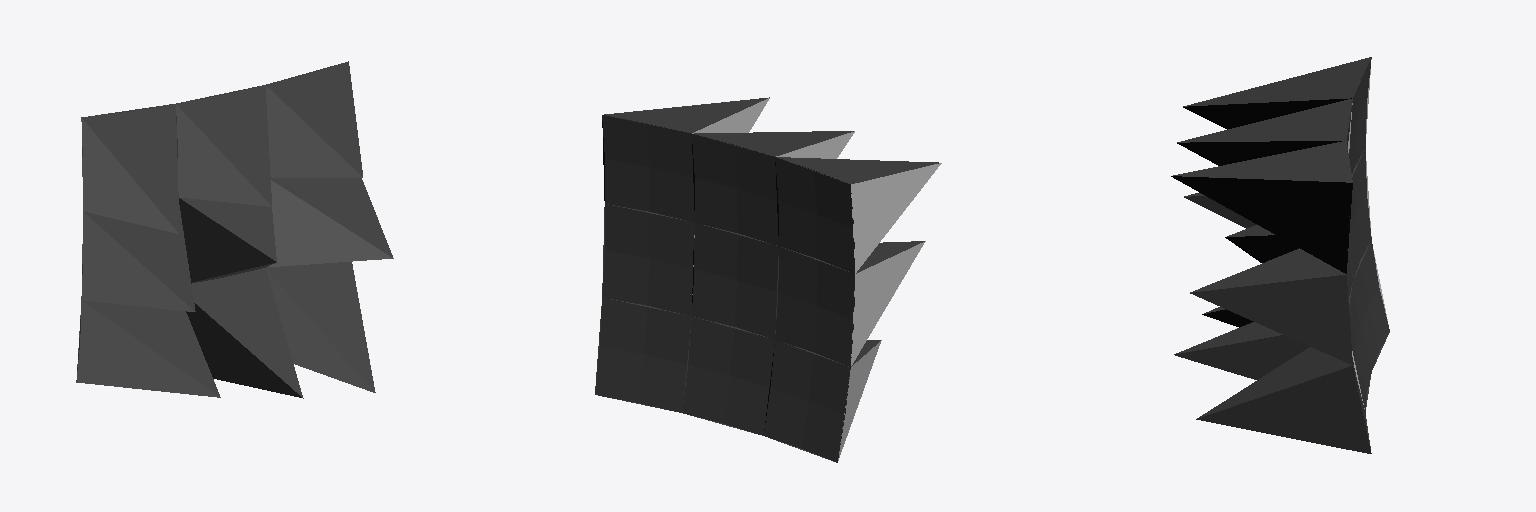
File: hair007.obj
3 views of the same model, side by side, from view 1: azimuth 30°, elevation 25°; view 2: azimuth 150°, elevation 25°; view 3: azimuth 270°, elevation 25° (orthographic).
Visible parts, largest first — view 1: Sphere001; view 2: Sphere001; view 3: Sphere001.
Part boxes in pixels (x1,y1,x2,y2): Sphere001: (76, 61, 393, 398); Sphere001: (595, 97, 941, 462); Sphere001: (1171, 57, 1389, 453).
Bounding box in the file's own units: 22.62 × 22.67 × 16.57.